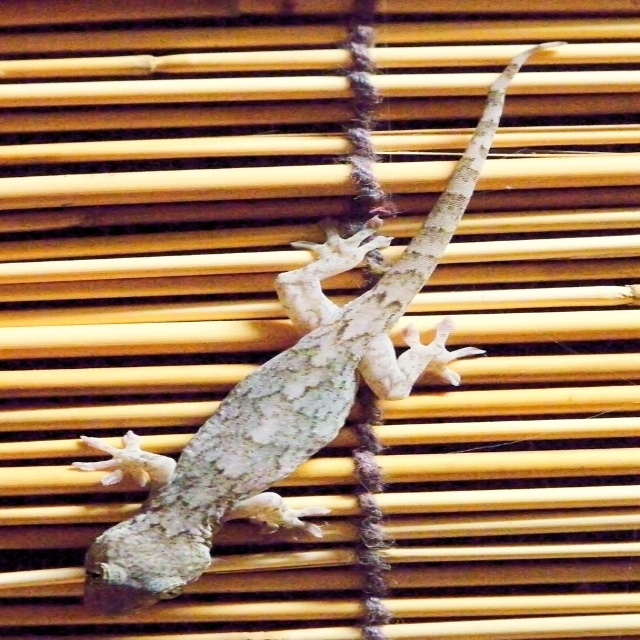Lizard: (75, 50, 556, 608)
